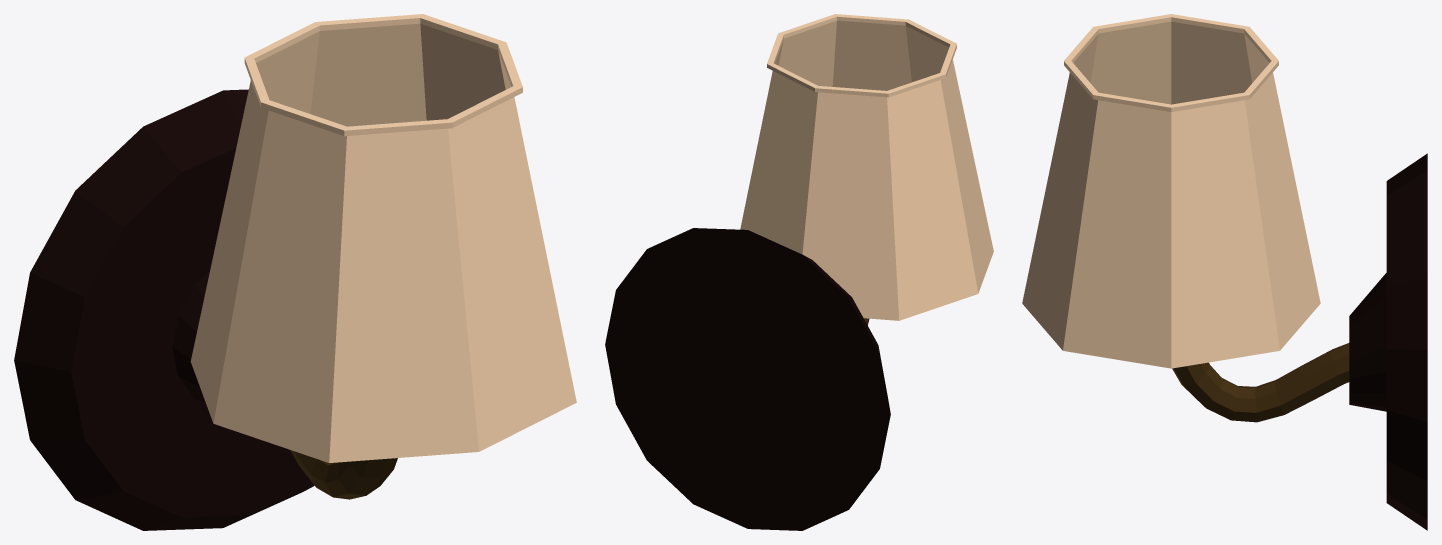
Rendered from wall_light.fbx.
3 renders of one model, left to right at view 1: azimuth 30°, elevation 25°; view 2: azimuth 150°, elevation 25°; view 3: azimuth 270°, elevation 25°, orthographic. The views are drawn at different scales.
Visible parts, largest first — view 1: Cylinder.002, Cylinder, Cylinder.001; view 2: Cylinder, Cylinder.002; view 3: Cylinder.002, Cylinder, Cylinder.001.
Boxes of the visible parts, left/top/right/bottom form: Cylinder.002: left=190, top=14, right=576, bottom=462; Cylinder: left=14, top=89, right=314, bottom=530; Cylinder.001: left=290, top=450, right=397, bottom=499; Cylinder: left=605, top=228, right=890, bottom=530; Cylinder.002: left=740, top=14, right=993, bottom=320; Cylinder.002: left=1022, top=14, right=1320, bottom=368; Cylinder: left=1349, top=153, right=1427, bottom=530; Cylinder.001: left=1172, top=343, right=1349, bottom=422.
Bounding box in the file's own units: 182 × 240 × 196.
